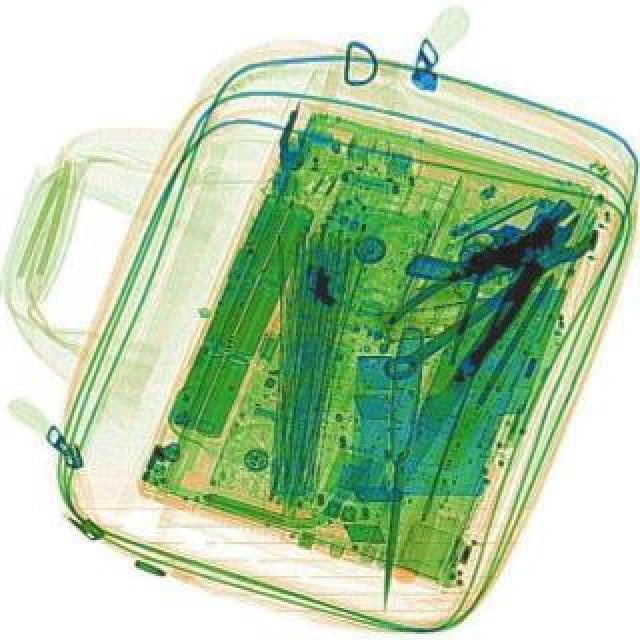gun: (404, 152, 580, 320)
knife: (372, 252, 546, 502), (372, 326, 428, 608)
scissors: (374, 206, 606, 390)
